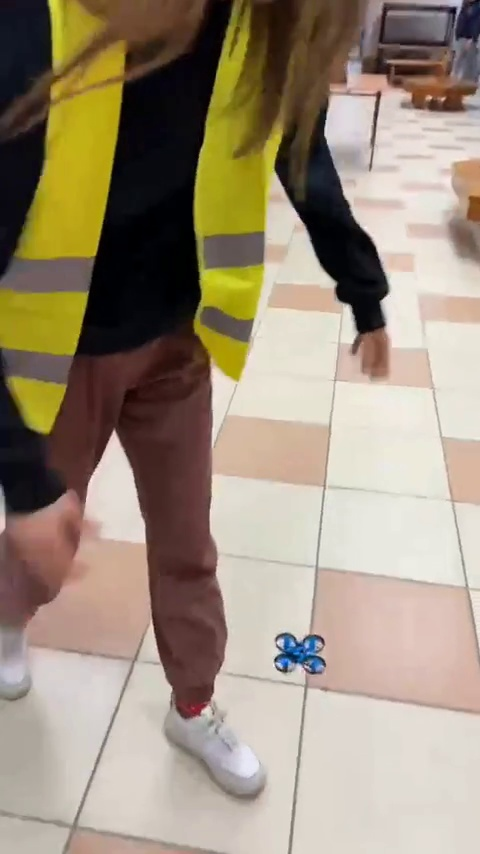drone: (267, 623, 330, 679)
vest: (3, 0, 328, 792)
